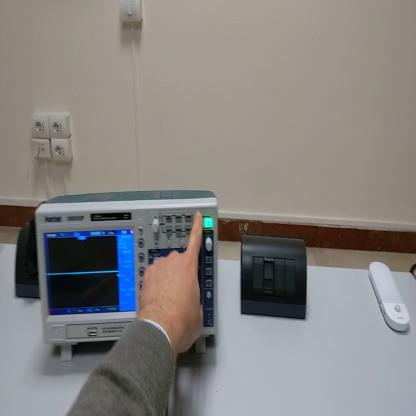hand: (139, 214, 206, 356)
oscilloscope: (36, 182, 223, 368)
socket: (16, 225, 42, 300)
